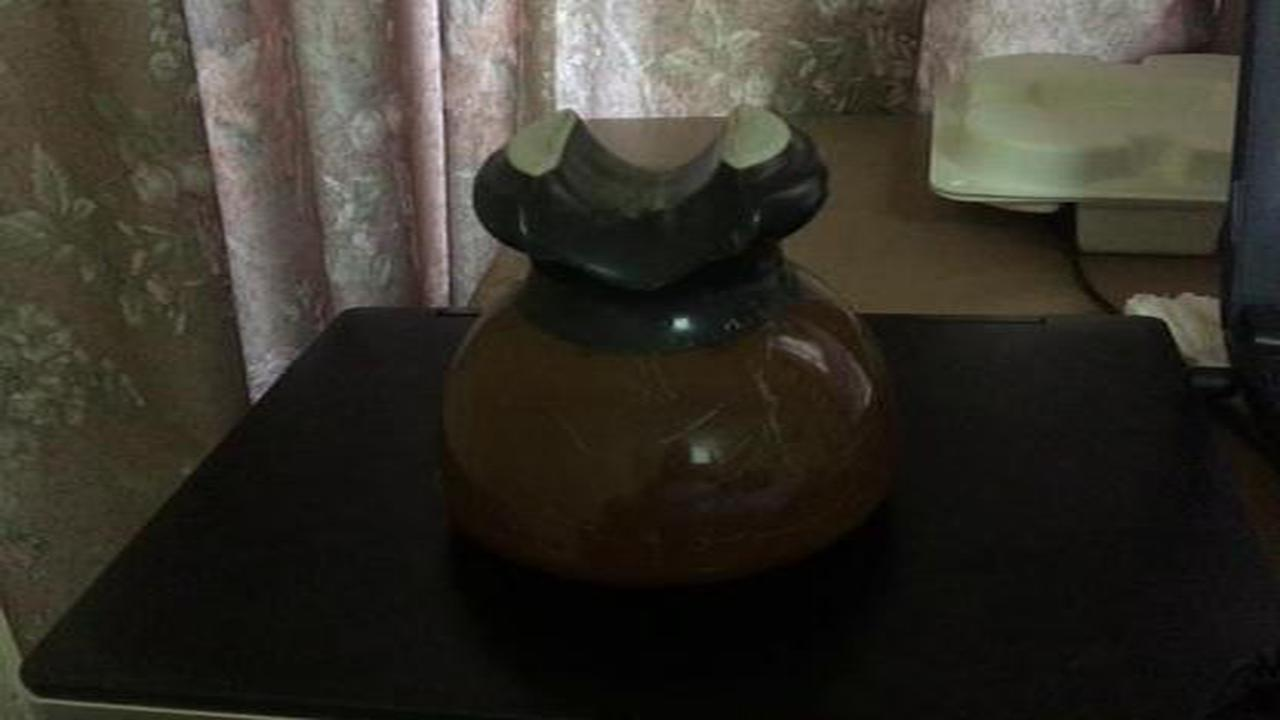insulator_pin: (419, 94, 933, 606)
